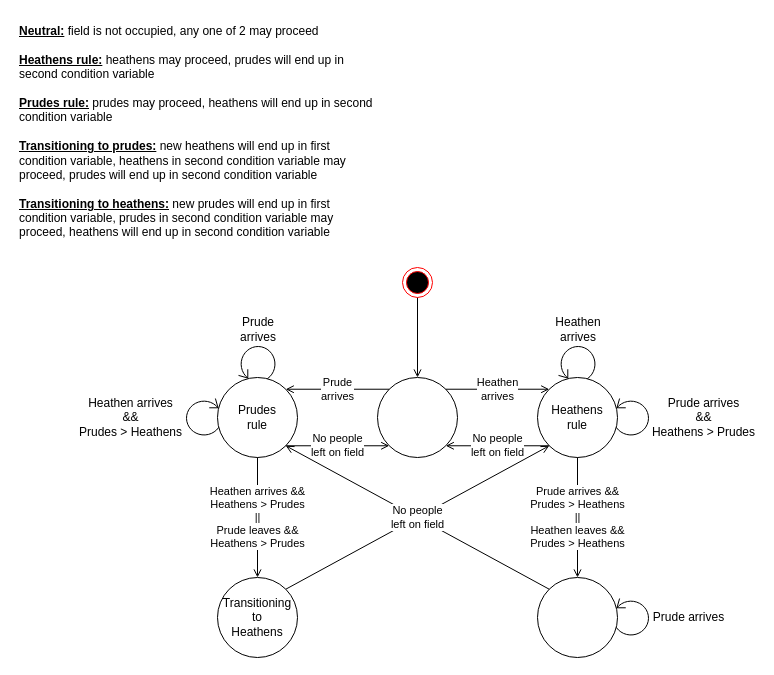
Some shapes in this 774 by 675 pixel diagram are drawn without their labels. Here are the shapes that lost their labels. From the top down, the box of each, then its label:
(376, 376, 458, 458): Neutral
(536, 576, 618, 658): Transitioning to Prudes
